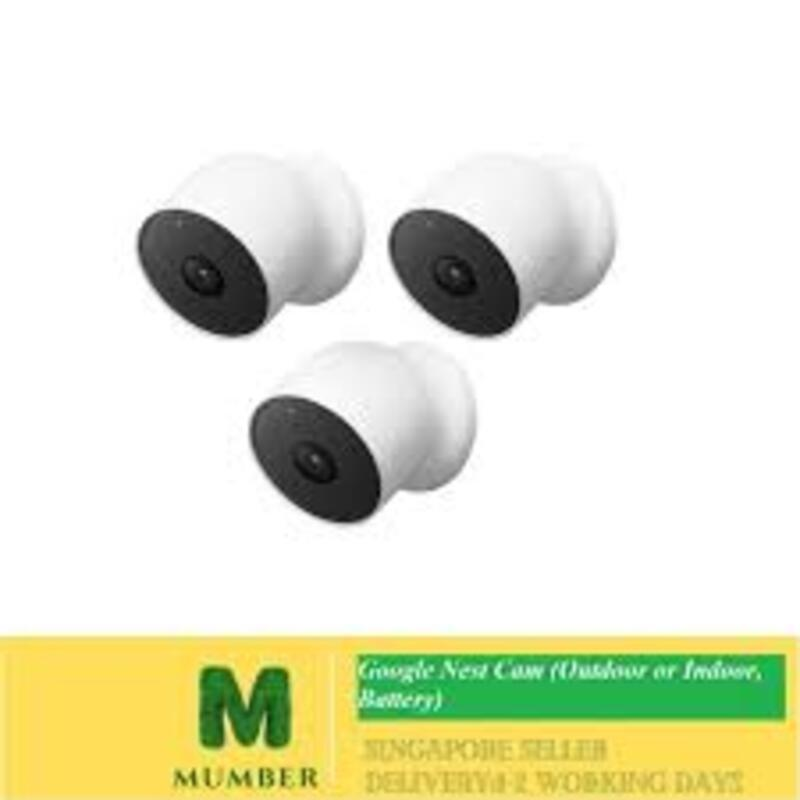nest: (387, 145, 590, 348), (243, 350, 485, 513), (132, 151, 327, 340)
